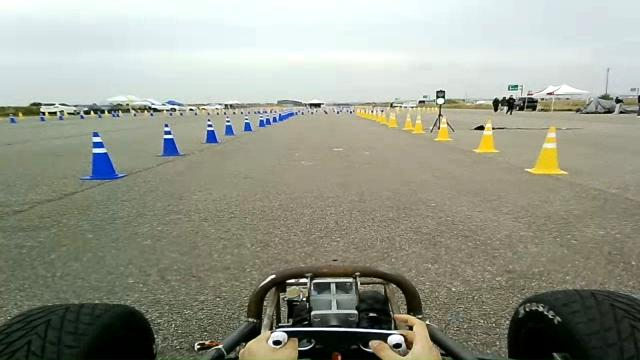blue cone: (79, 131, 127, 180), (156, 123, 186, 156), (201, 118, 220, 144), (223, 116, 236, 136), (242, 115, 254, 131), (264, 113, 272, 126), (257, 117, 266, 127), (276, 114, 282, 122), (271, 115, 277, 123)
yellow cone: (524, 125, 568, 175), (472, 119, 499, 153), (433, 117, 452, 141), (411, 114, 425, 134), (401, 112, 414, 131), (387, 112, 398, 128), (377, 111, 387, 124), (361, 111, 370, 120)
